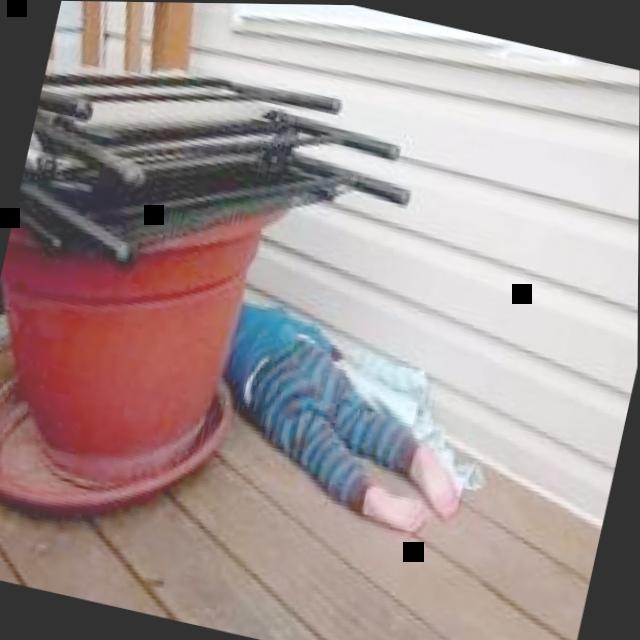Fall-Detected: (184, 268, 514, 552)
